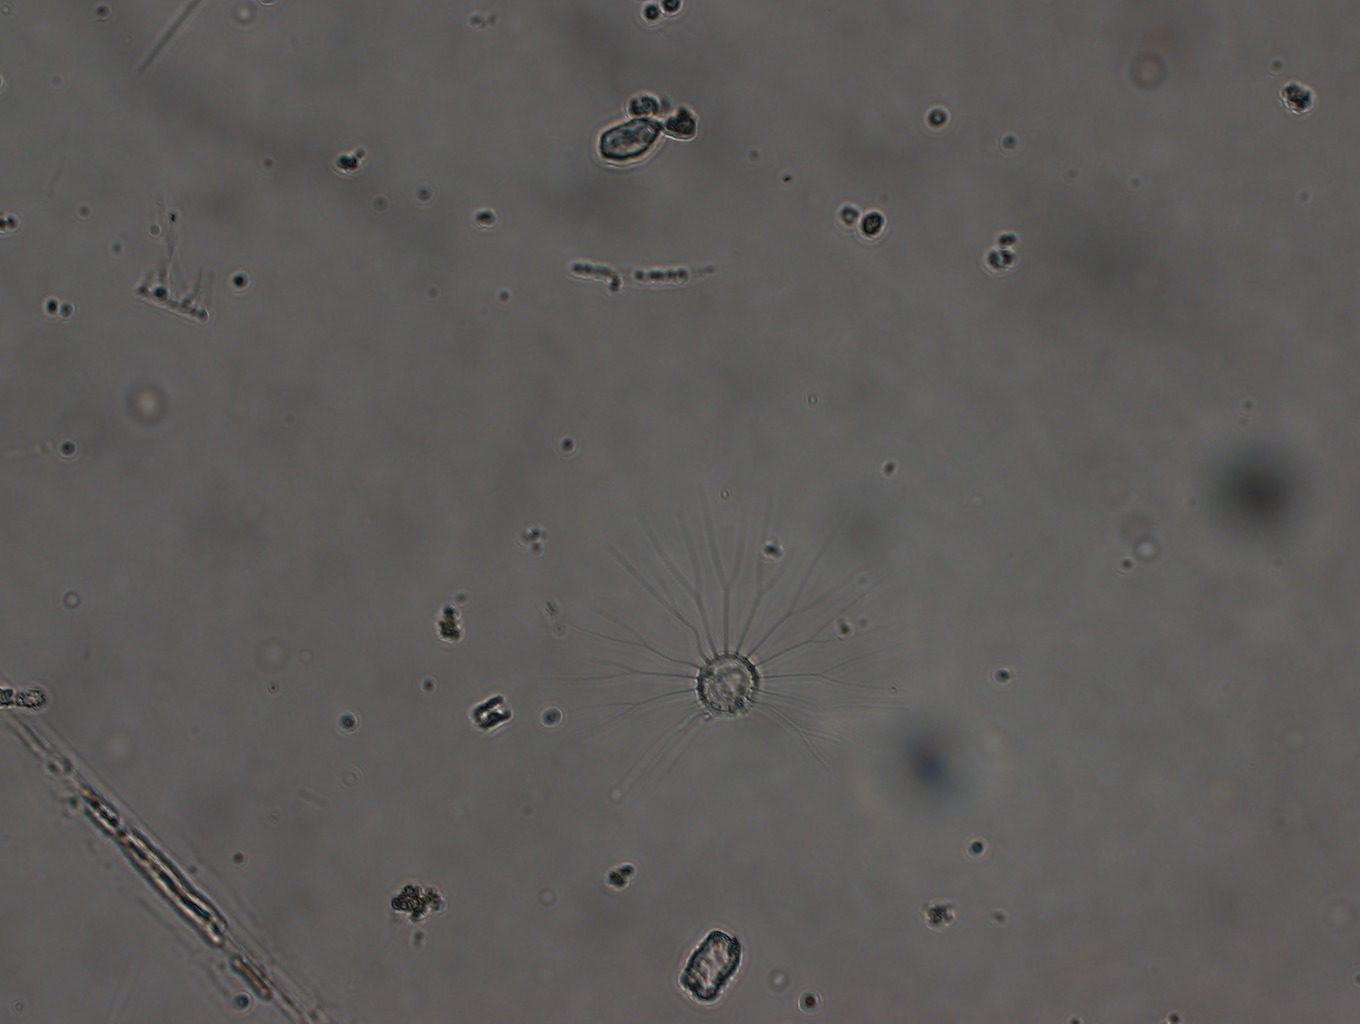bacteriastrum: (556, 482, 930, 790)
